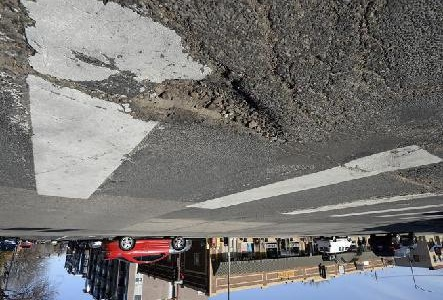pothole: (117, 67, 291, 148)
